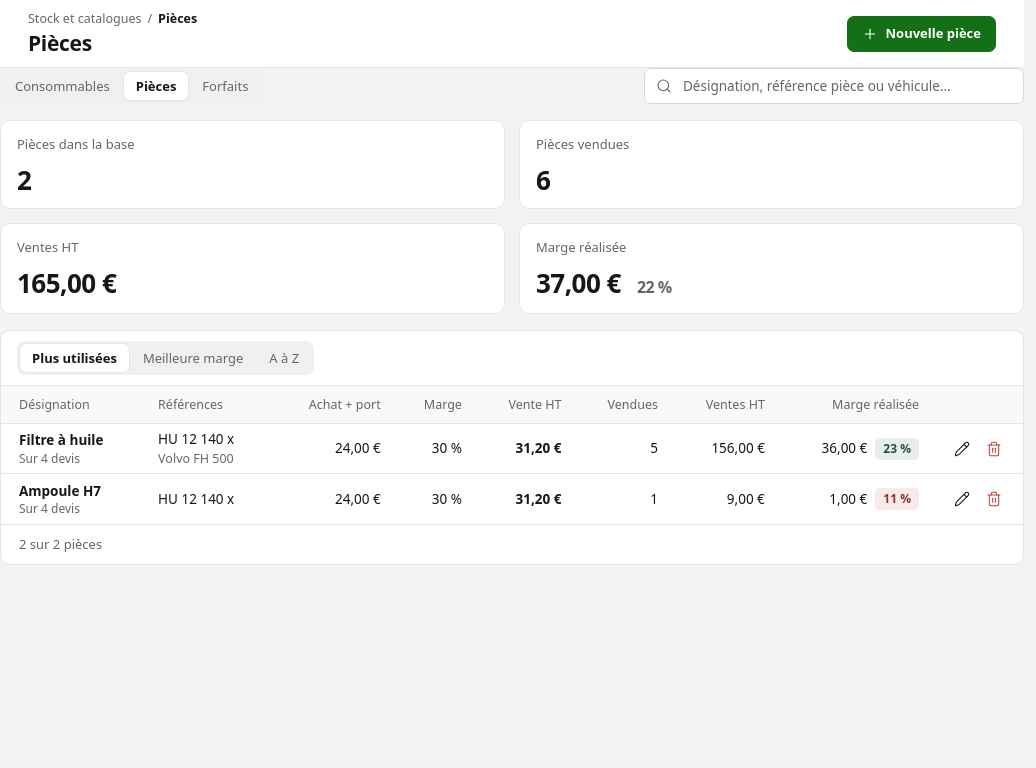
Test case: pièces › chiffres des ventes, pièces les plus utilisées en premier, recherche par référence véhicule
The image size is (1036, 768).
Expected: the text "23 %" is shown, top-left (875, 438), bottom-right (919, 460)
Expected: the text "30 %" in the row of "Filtre à huile" is shown, top-left (432, 439), bottom-right (462, 457)
In the search field named "Rechercher une pièce": (834, 86) top-left (644, 68), bottom-right (1024, 104), type "volvo"
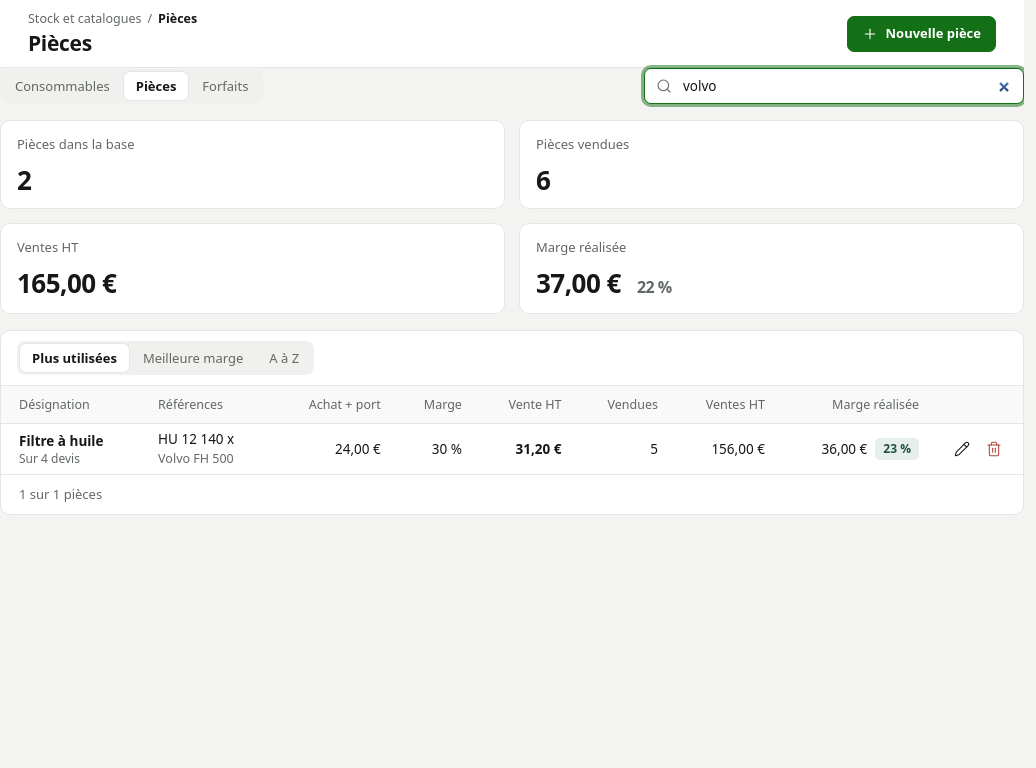
Expected: the row "Filtre à huile" is shown, top-left (1, 424), bottom-right (1023, 474)
Result: the cell "Ampoule H7" is gone
